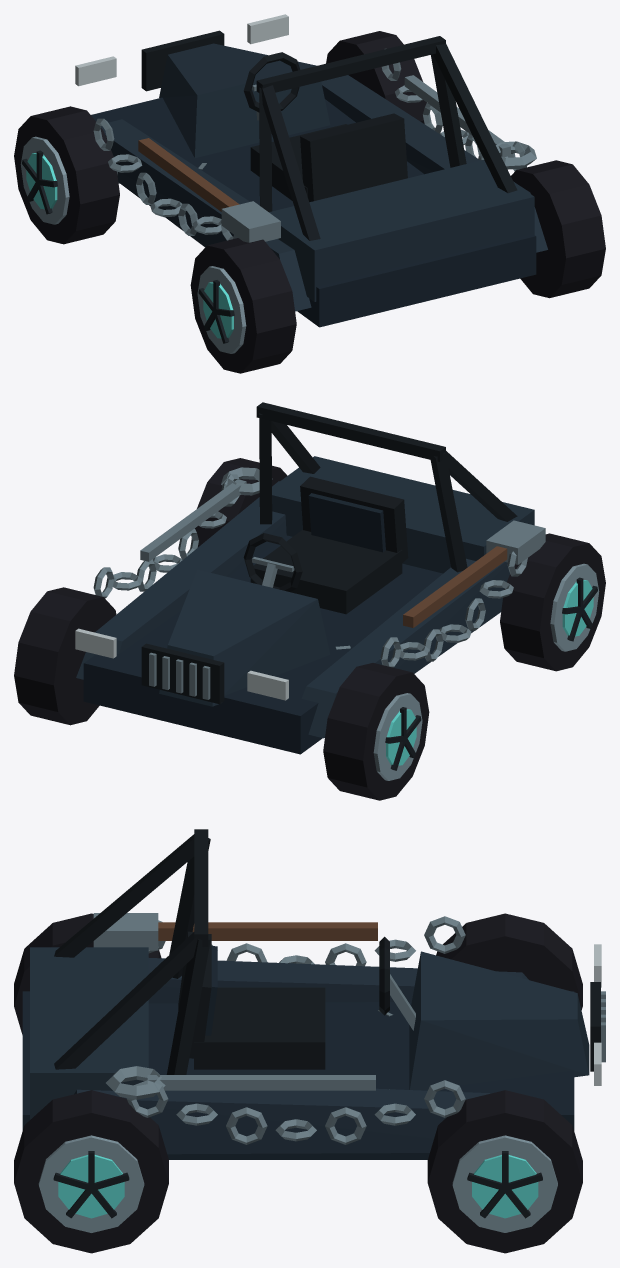
File: kart.glb
The picture shows the model from 3 angles, top to bottom: view 1: azimuth 30°, elevation 25°; view 2: azimuth 150°, elevation 25°; view 3: azimuth 270°, elevation 25°; orthographic projection. The views are drawn at different scales.
Parts seen in each view (by area): view 1: identity-buggy-buggy-offroad-frame, wheel-rear-left, wheel-front-left, identity-buggy-driver-cockpit, wheel-rear-right, identity-buggy-motif-tools, identity-buggy-motif-chains, wheel-front-right; view 2: identity-buggy-buggy-offroad-frame, identity-buggy-driver-cockpit, wheel-front-left, wheel-rear-left, wheel-front-right, identity-buggy-motif-tools, identity-buggy-motif-chains, wheel-rear-right; view 3: identity-buggy-buggy-offroad-frame, wheel-front-right, wheel-rear-right, identity-buggy-driver-cockpit, identity-buggy-motif-tools, identity-buggy-motif-chains, wheel-front-left, wheel-rear-left.
Part boxes in pixels (left/top/right/bottom): identity-buggy-buggy-offroad-frame: left=75, top=14, right=547, bottom=327; wheel-rear-left: left=190, top=238, right=296, bottom=373; wheel-front-left: left=14, top=106, right=119, bottom=244; identity-buggy-driver-cockpit: left=243, top=52, right=407, bottom=202; wheel-rear-right: left=511, top=160, right=605, bottom=298; identity-buggy-motif-tools: left=138, top=75, right=536, bottom=242; identity-buggy-motif-chains: left=93, top=48, right=526, bottom=240; wheel-front-right: left=326, top=31, right=426, bottom=123; identity-buggy-buggy-offroad-frame: left=75, top=402, right=534, bottom=754; identity-buggy-driver-cockpit: left=243, top=476, right=408, bottom=614; wheel-front-left: left=323, top=663, right=429, bottom=800; wheel-rear-left: left=500, top=533, right=605, bottom=671; wheel-front-right: left=14, top=587, right=116, bottom=725; identity-buggy-motif-tools: left=140, top=467, right=545, bottom=627; identity-buggy-motif-chains: left=93, top=474, right=527, bottom=667; wheel-rear-right: left=191, top=458, right=287, bottom=547; identity-buggy-buggy-offroad-frame: left=22, top=829, right=605, bottom=1159; wheel-front-right: left=427, top=1090, right=582, bottom=1253; wheel-rear-right: left=14, top=1090, right=168, bottom=1253; identity-buggy-driver-cockpit: left=178, top=931, right=415, bottom=1069; identity-buggy-motif-tools: left=93, top=913, right=377, bottom=1099; identity-buggy-motif-chains: left=127, top=916, right=465, bottom=1144; wheel-front-left: left=436, top=913, right=582, bottom=1010; wheel-rear-left: left=14, top=913, right=161, bottom=1034.
Bounding box in the file's own units: 2.31 × 1.39 × 2.75.
